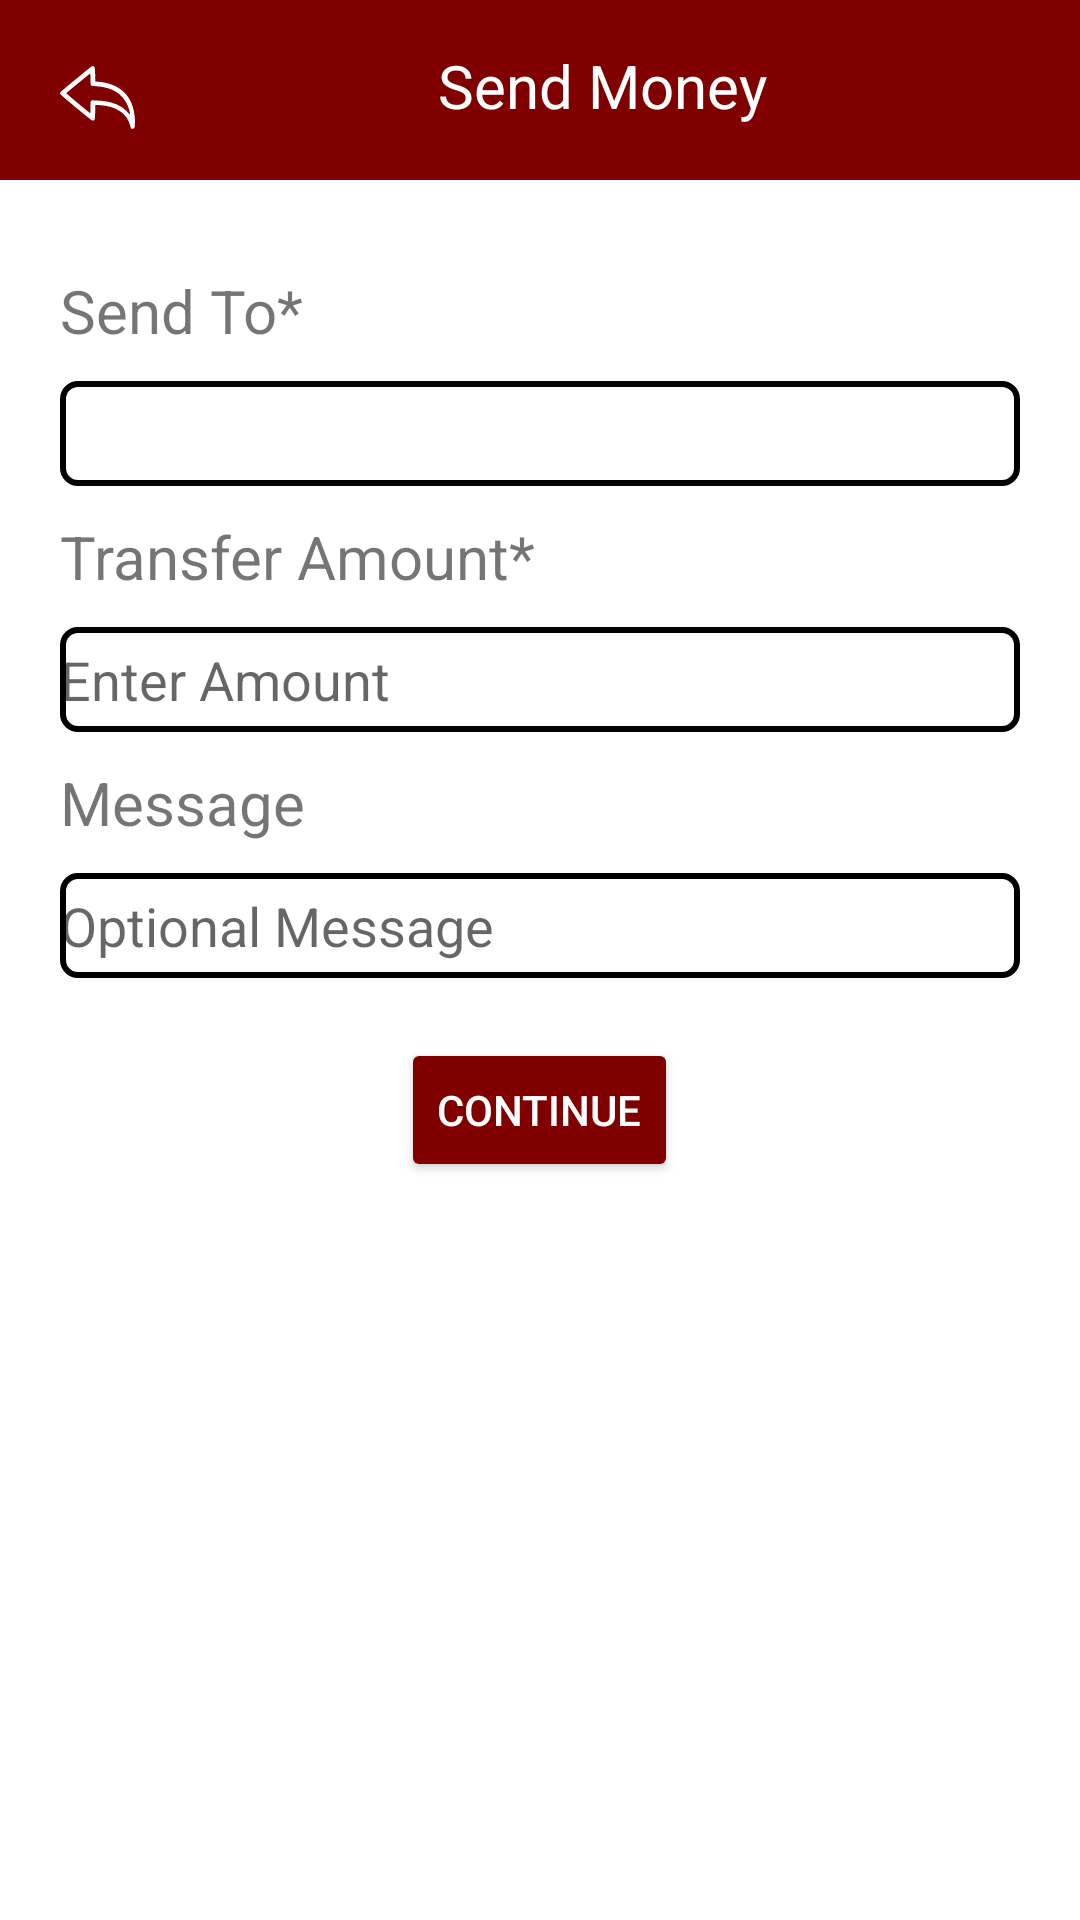

Screen size 1080×1920. Icon name, then its box in pixels as bbox=[x1, y1, x2, y2]:
back: bbox=[60, 66, 135, 129]
